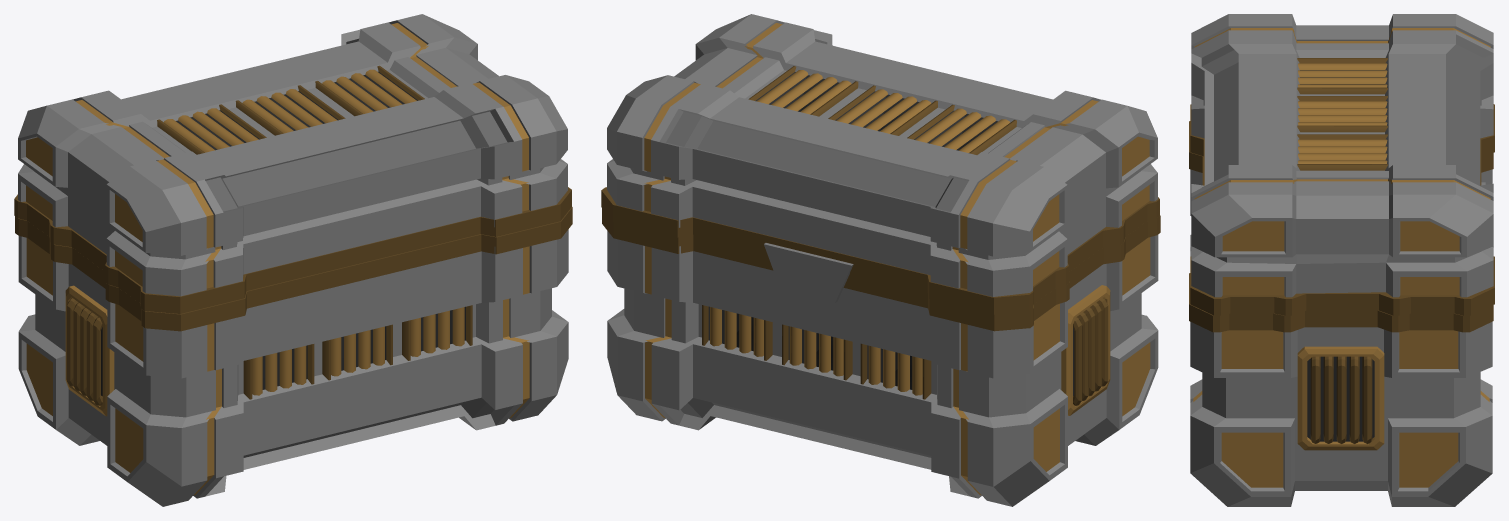
File: chest.glb
3 renders of one model, left to right at view 1: azimuth 30°, elevation 25°; view 2: azimuth 150°, elevation 25°; view 3: azimuth 270°, elevation 25°, orthographic.
Visible parts, largest first — view 1: chest; view 2: chest; view 3: chest.
Boxes of the visible parts, x1,y1,x2,y2 form: chest: (14, 14, 572, 506); chest: (601, 14, 1160, 506); chest: (1189, 14, 1494, 506).
Size of the model in its own units: 0.8 by 0.566 by 0.5022.
